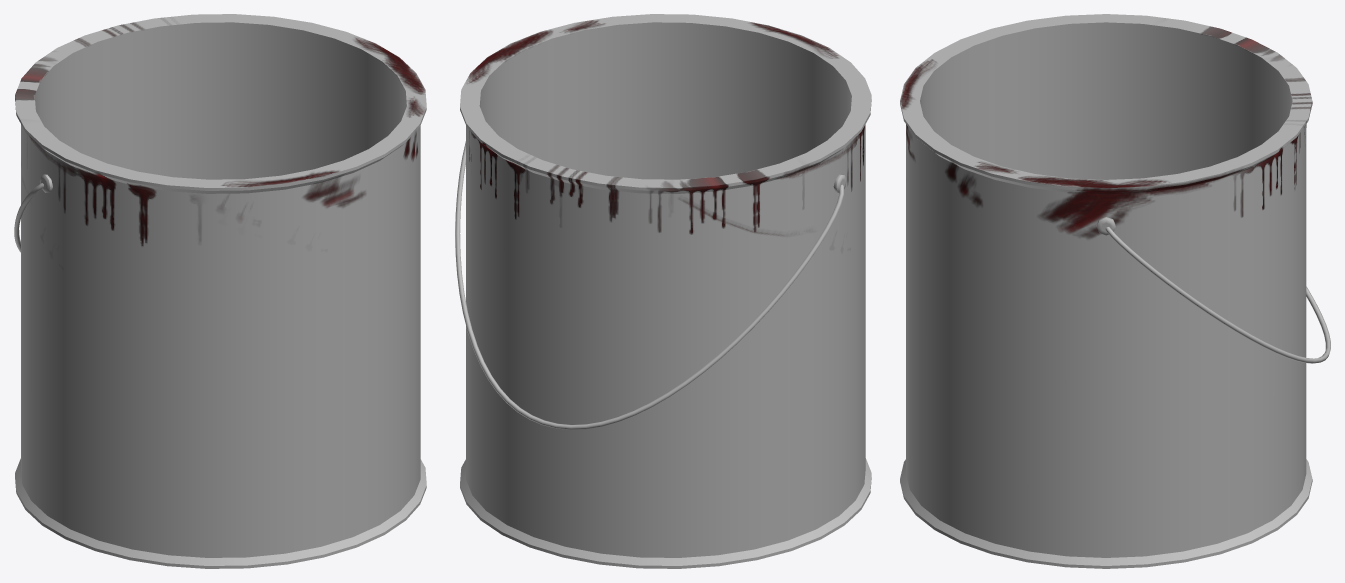
Rendered from PaintCan.fbx.
The picture shows the model from 3 angles, left to right: view 1: azimuth 30°, elevation 25°; view 2: azimuth 150°, elevation 25°; view 3: azimuth 270°, elevation 25°; orthographic projection.
Parts seen in each view (by area): view 1: Bucket; view 2: Bucket; view 3: Bucket.
Part boxes in pixels (x1=…): Bucket: x1=14, y1=14, x2=426, y2=568; Bucket: x1=455, y1=14, x2=871, y2=568; Bucket: x1=900, y1=14, x2=1330, y2=568.
Bounding box in the file's own units: 9.39 × 9.32 × 9.56.
Materials: 2 (2 with a texture image).
